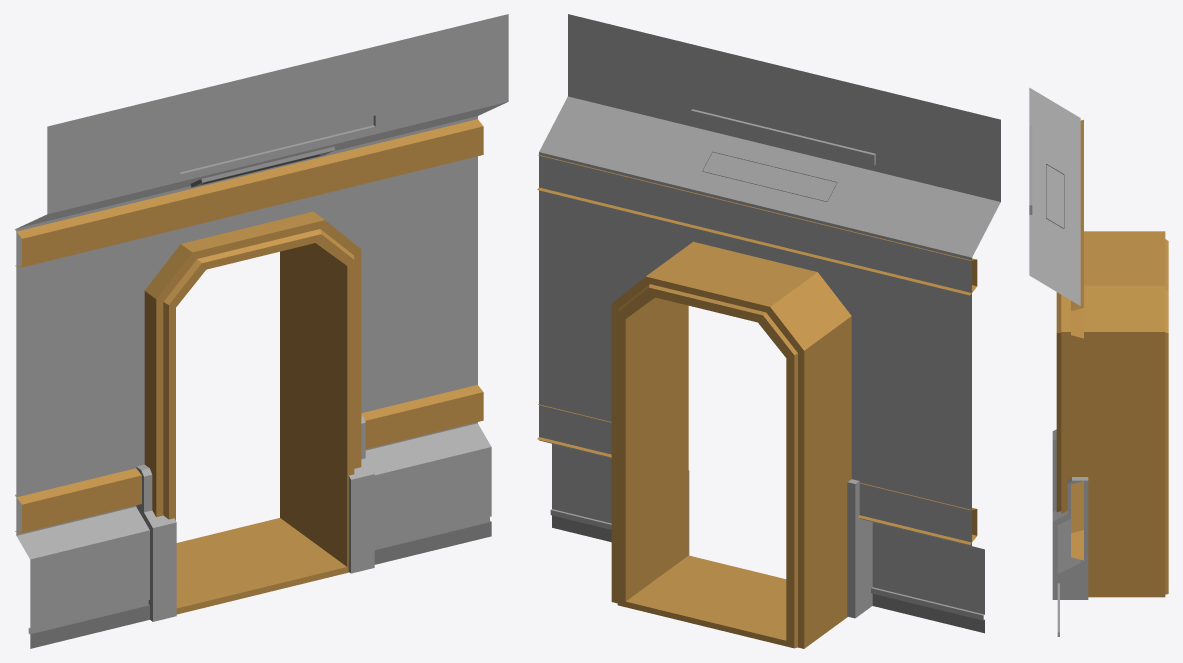
File: DoorSingle_Wall_SideA_GD.glb
3 views of the same model, side by side, from view 1: azimuth 30°, elevation 25°; view 2: azimuth 150°, elevation 25°; view 3: azimuth 270°, elevation 25° (orthographic). The views are drawn at different scales.
Visible parts, largest first — view 1: DoorSingle_Wall_SideA; view 2: DoorSingle_Wall_SideA; view 3: DoorSingle_Wall_SideA.
Part boxes in pixels (x1,y1,x2,y2): DoorSingle_Wall_SideA: [14, 14, 508, 648]; DoorSingle_Wall_SideA: [537, 14, 1000, 648]; DoorSingle_Wall_SideA: [1029, 87, 1168, 636].
Bounding box in the file's own units: 30 × 33.28 × 9.4.
